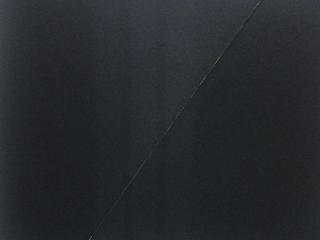crack: (88, 0, 262, 240)
